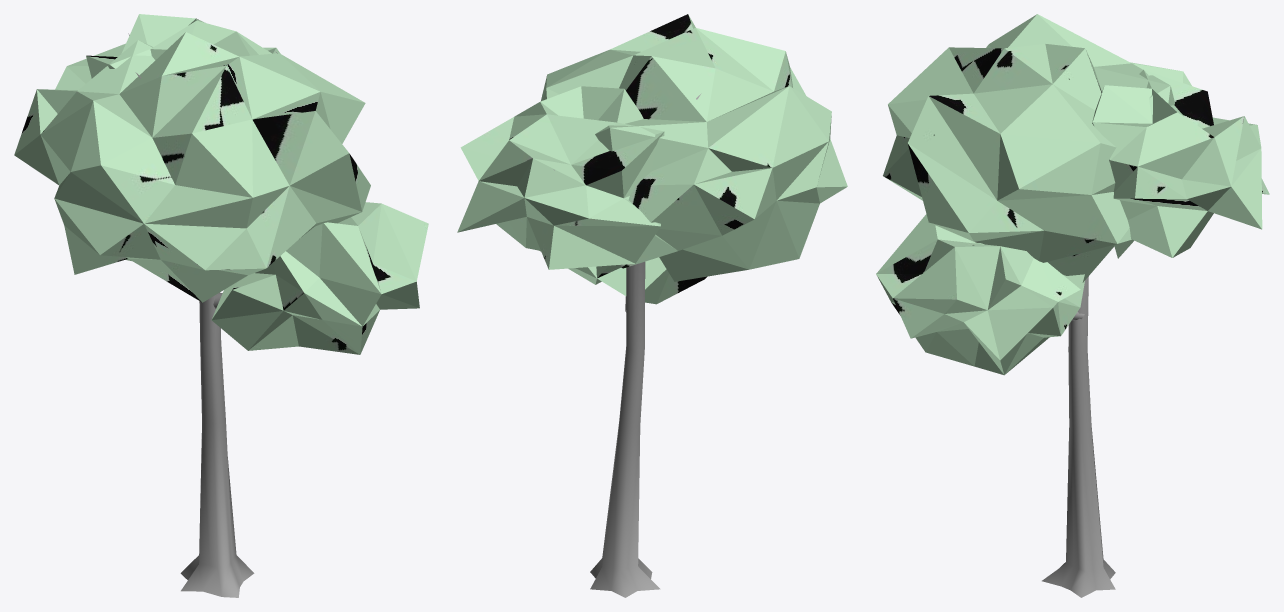
File: tree2.obj
3 views of the same model, side by side, from view 1: azimuth 30°, elevation 25°; view 2: azimuth 150°, elevation 25°; view 3: azimuth 270°, elevation 25° (orthographic). The views are drawn at different scales.
Parts seen in each view (by area): view 1: Icosphere.003_Icosphere.007; view 2: Icosphere.003_Icosphere.007; view 3: Icosphere.003_Icosphere.007.
Part boxes in pixels (x1,y1,x2,y2): Icosphere.003_Icosphere.007: [14, 14, 428, 597]; Icosphere.003_Icosphere.007: [457, 14, 847, 597]; Icosphere.003_Icosphere.007: [876, 14, 1269, 597].
Bounding box in the file's own units: 3.76 × 6.06 × 4.17.
